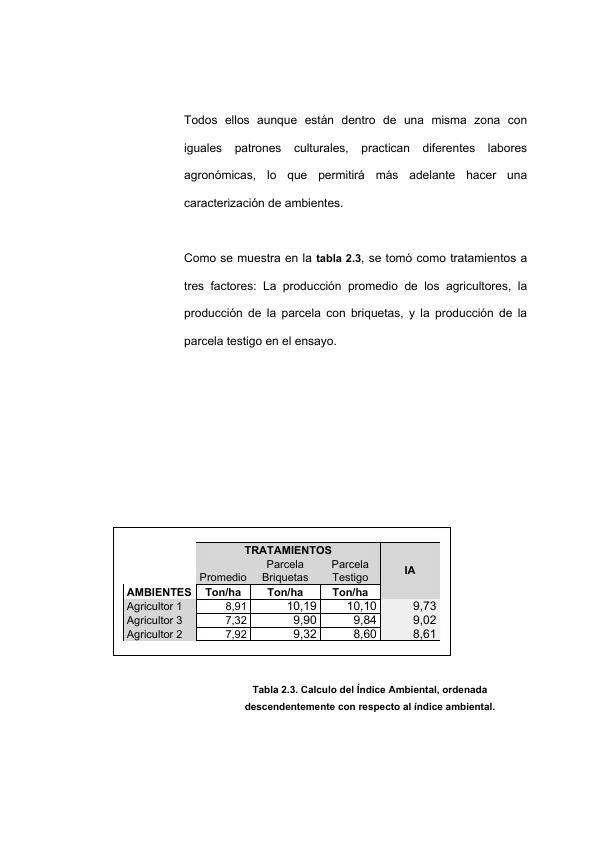table: (111, 524, 455, 661)
text: (180, 251, 534, 351), (182, 111, 529, 213), (243, 683, 500, 720)
